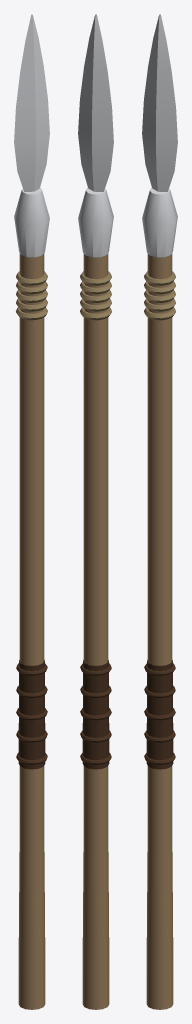
Rendered from melee_spear_iron.fbx.
The picture shows the model from 3 angles, left to right: view 1: azimuth 30°, elevation 25°; view 2: azimuth 150°, elevation 25°; view 3: azimuth 330°, elevation 25°; orthographic projection.
Parts seen in each view (by area): view 1: Handle, ToolHead; view 2: Handle, ToolHead; view 3: Handle, ToolHead.
Boxes of the visible parts, x1,y1,x2,y2 form: Handle: [16, 253, 47, 1009]; ToolHead: [14, 14, 49, 257]; Handle: [80, 253, 111, 1009]; ToolHead: [78, 14, 113, 257]; Handle: [144, 253, 175, 1009]; ToolHead: [142, 14, 177, 257].
Size of the model in its own units: 0.076 by 2 by 0.0628.
